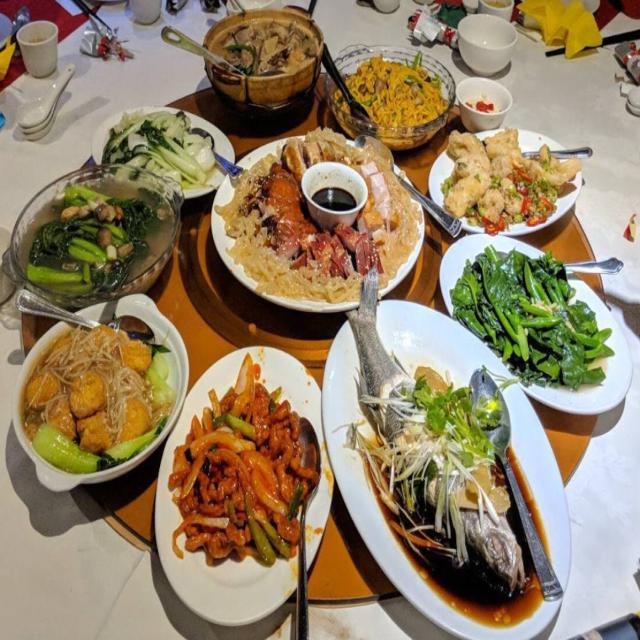ca hap: (340, 386, 532, 603)
canh rau: (18, 177, 166, 298)
dau hu xao: (8, 316, 170, 452)
heo quay: (234, 134, 414, 288)
rau muong xao: (101, 102, 219, 181)
rau muong xao toi: (456, 238, 618, 378)
